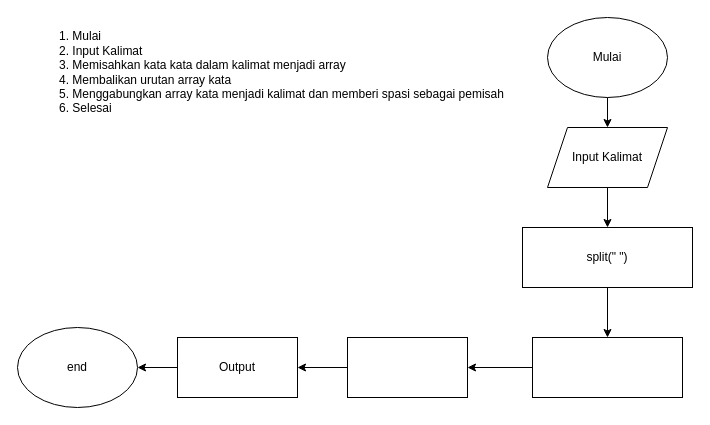
This 710x425 diagram has some shape labels left out. The shapes that lost their labels are listed below. From the top down, each one's box as (x1, y1, x2, y2) in pixels, then its label:
(346, 336, 468, 398): Join(" ")
(532, 336, 682, 398): reverse().
